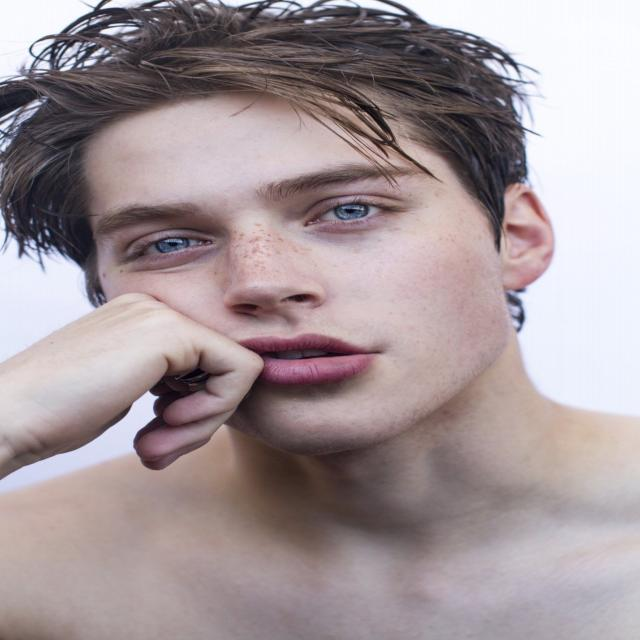earlobe: (504, 255, 537, 291)
eye: (307, 201, 393, 225), (136, 234, 215, 258)
nose: (222, 296, 330, 331)
wholeear: (502, 182, 557, 290)
